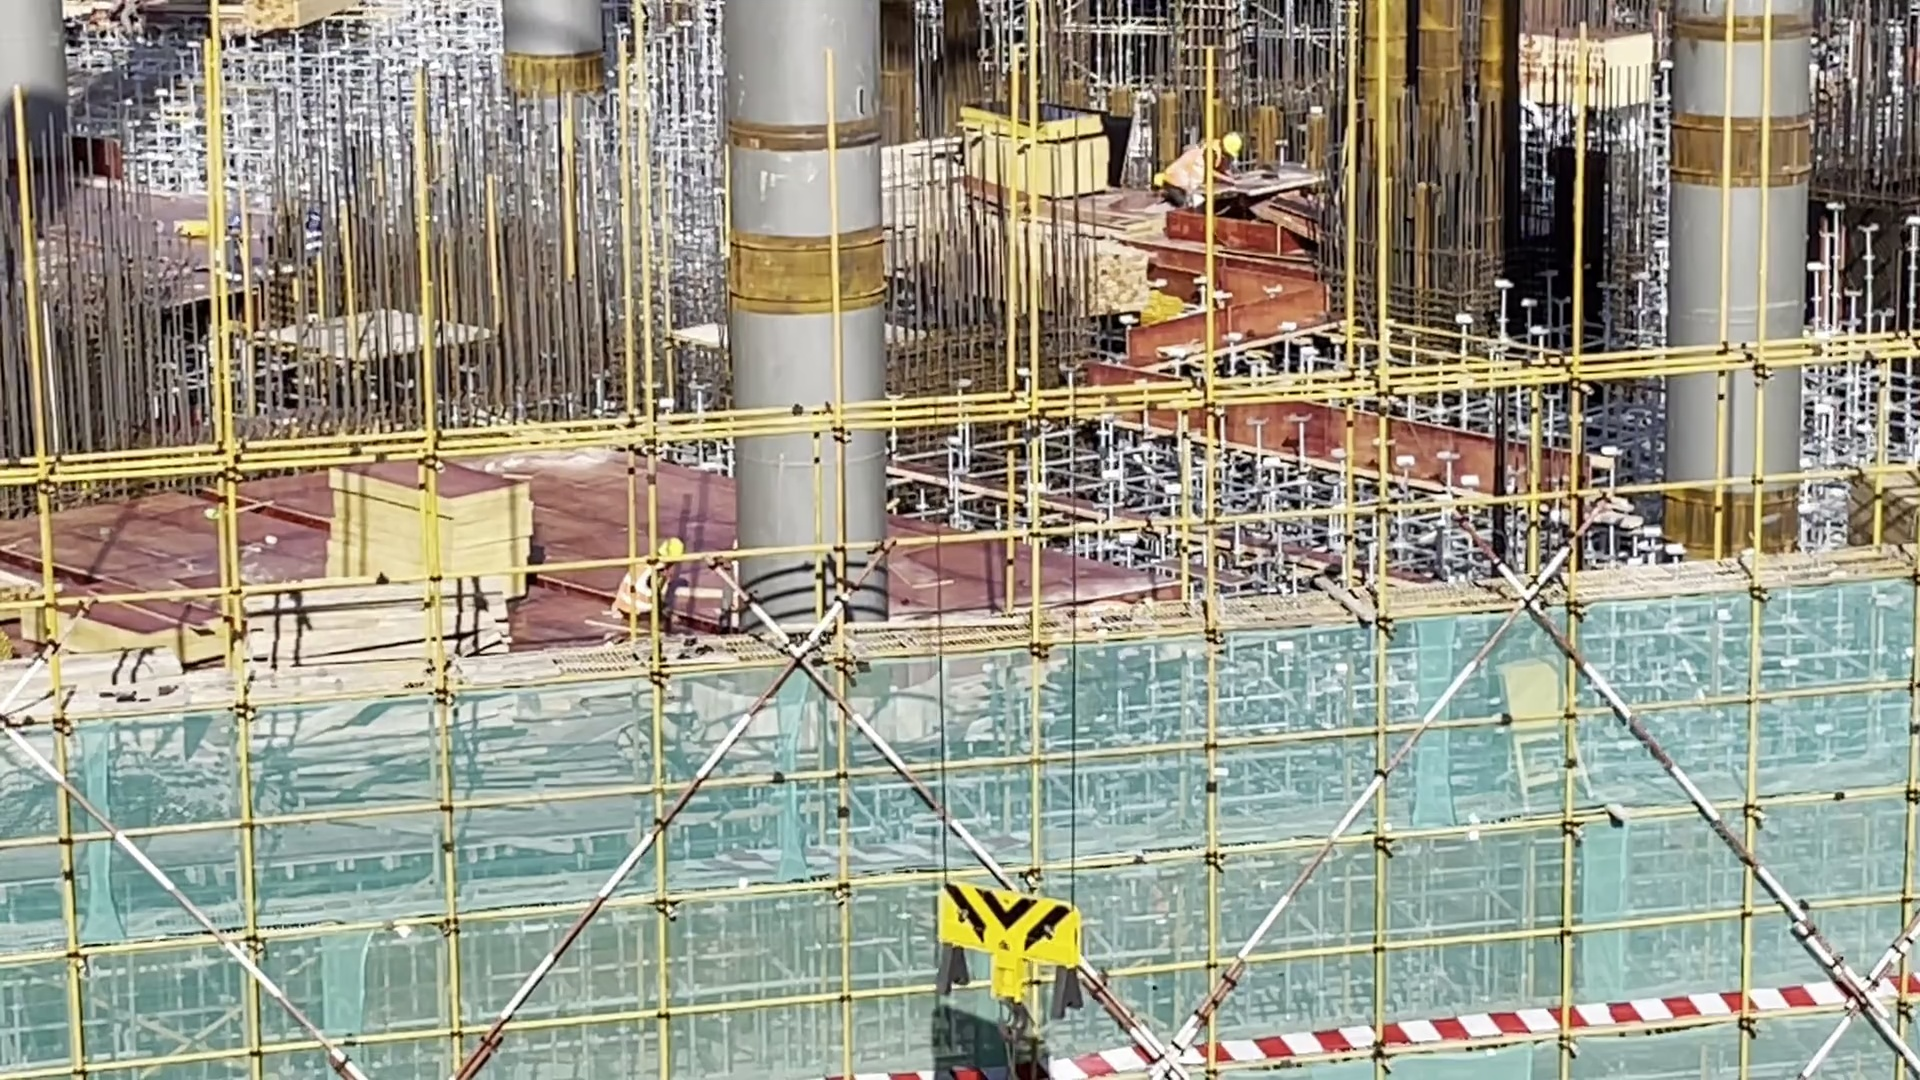board: (328, 458, 533, 595)
hook: (932, 874, 1083, 1029)
person: (617, 529, 693, 631), (1163, 130, 1239, 226)
vest: (618, 555, 666, 615), (1170, 143, 1214, 202)
wood: (1854, 469, 1920, 540)
